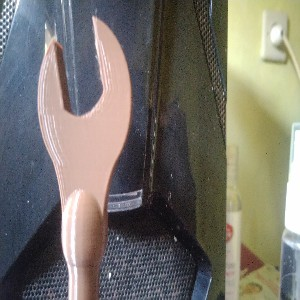spanner: (36, 16, 132, 300)
